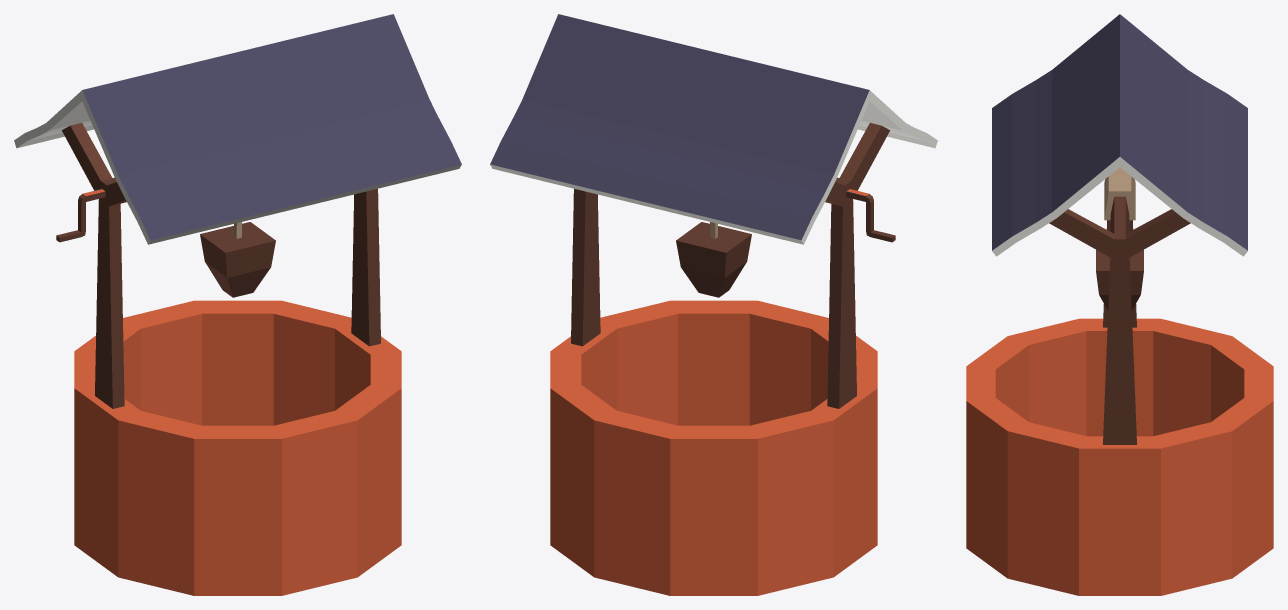
File: Farmi_Kaivo.fbx
The picture shows the model from 3 angles, left to right: view 1: azimuth 30°, elevation 25°; view 2: azimuth 150°, elevation 25°; view 3: azimuth 270°, elevation 25°; orthographic projection. The views are drawn at different scales.
Parts seen in each view (by area): view 1: Circle; view 2: Circle; view 3: Circle.
Part boxes in pixels (bbox=[...]): Circle: bbox=[14, 14, 461, 595]; Circle: bbox=[490, 14, 937, 595]; Circle: bbox=[966, 14, 1273, 595].
Bounding box in the file's own units: 145 × 196 × 123.
